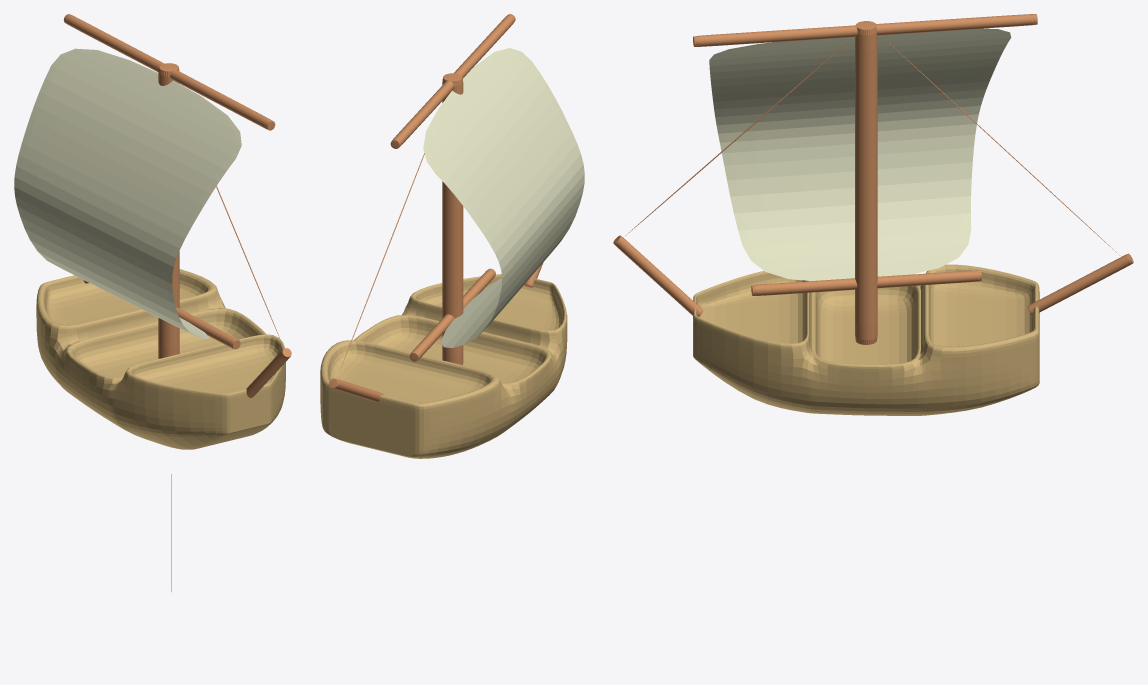
File: ship08A14.fbx
3 renders of one model, left to right at view 1: azimuth 30°, elevation 25°; view 2: azimuth 150°, elevation 25°; view 3: azimuth 270°, elevation 25°, orthographic. The views are drawn at different scales.
Parts seen in each view (by area): view 1: cube-ship-A14; view 2: cube-ship-A14; view 3: cube-ship-A14.
Part boxes in pixels (x1,y1,x2,y2): cube-ship-A14: (14,14,291,591); cube-ship-A14: (320,14,584,458); cube-ship-A14: (613,14,1133,415).
Size of the model in its own units: 901 by 1232 by 404.
